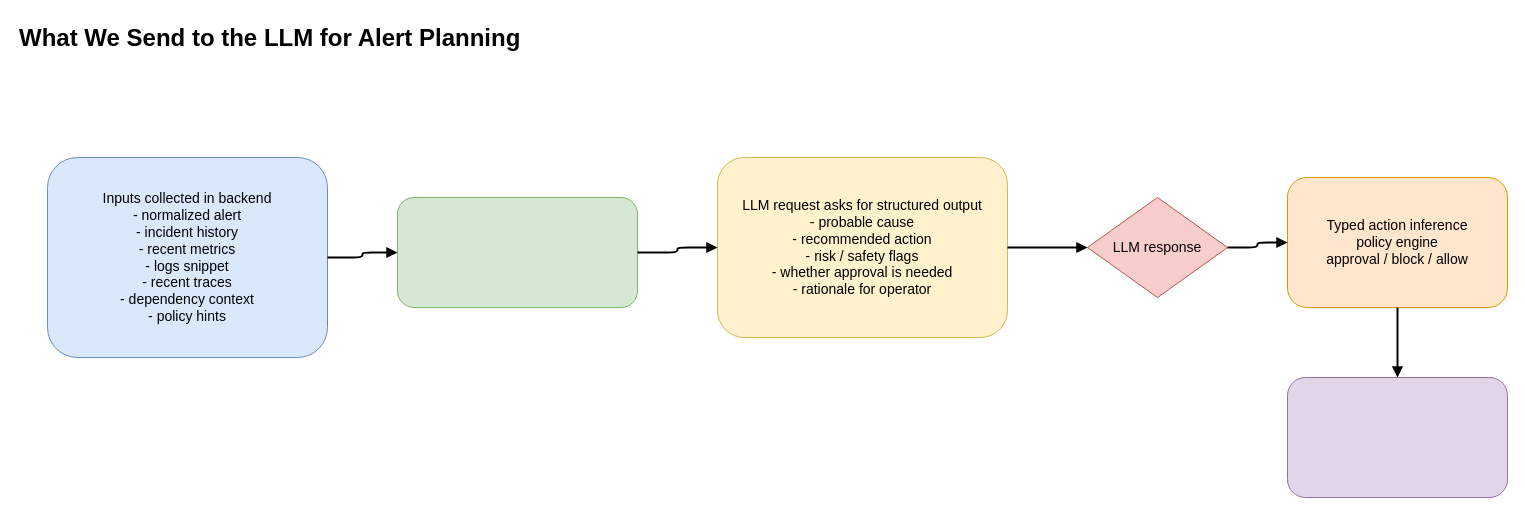
The diagram is 1525 pixels wide and 515 high, and some of its shapes have lost their labels. The centre of each missing label's shape, as x and y in pixels:
"Persist outputs incident timeline execution intent dashboards" goes at (1397,437).
"Prompt assembly system rules + safety framing + evidence summary" goes at (517,252).
